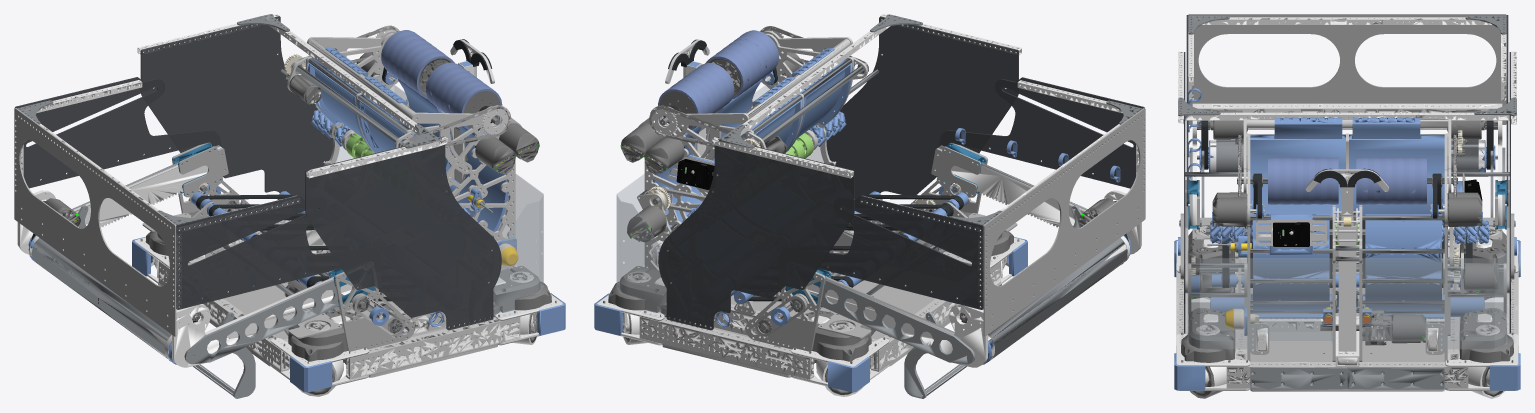
The model's file is chunk-7769.glb.
3 views of the same model, side by side, from view 1: azimuth 30°, elevation 25°; view 2: azimuth 150°, elevation 25°; view 3: azimuth 270°, elevation 25° (orthographic).
Visible parts, largest first — view 1: frame, intake, flywheel, intake-roller, hood, kick-bar, climber, feeder; view 2: frame, intake, flywheel, intake-roller, hood, kick-bar, climber, feeder; view 3: frame, intake, flywheel, hood, intake-roller, climber, kick-bar.
Boxes of the visible parts, x1,y1,x2,y2 form: frame: (132, 14, 565, 396); intake: (14, 77, 352, 367); flywheel: (381, 30, 502, 129); intake-roller: (28, 235, 176, 364); hood: (307, 29, 508, 174); kick-bar: (77, 205, 255, 398); climber: (450, 39, 494, 83); feeder: (341, 129, 374, 158); frame: (594, 14, 1027, 396); intake: (807, 77, 1145, 367); flywheel: (658, 30, 778, 129); intake-roller: (983, 235, 1130, 364); hood: (652, 27, 852, 160); kick-bar: (904, 205, 1081, 398); climber: (665, 39, 709, 84); feeder: (785, 130, 818, 158); frame: (1174, 51, 1520, 398); intake: (1186, 14, 1508, 225); flywheel: (1237, 157, 1457, 204); hood: (1239, 117, 1455, 196); intake-roller: (1197, 139, 1497, 172); climber: (1305, 168, 1389, 225); kick-bar: (1201, 150, 1493, 240).
Bounding box in the file's own units: 0.9493 × 0.5572 × 0.7461.
